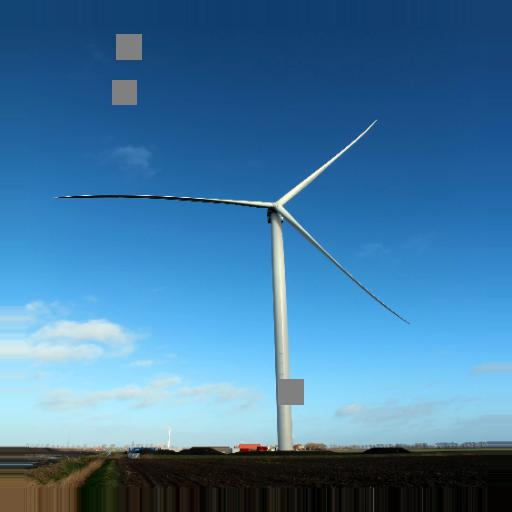wind turbine: (52, 118, 414, 454)
